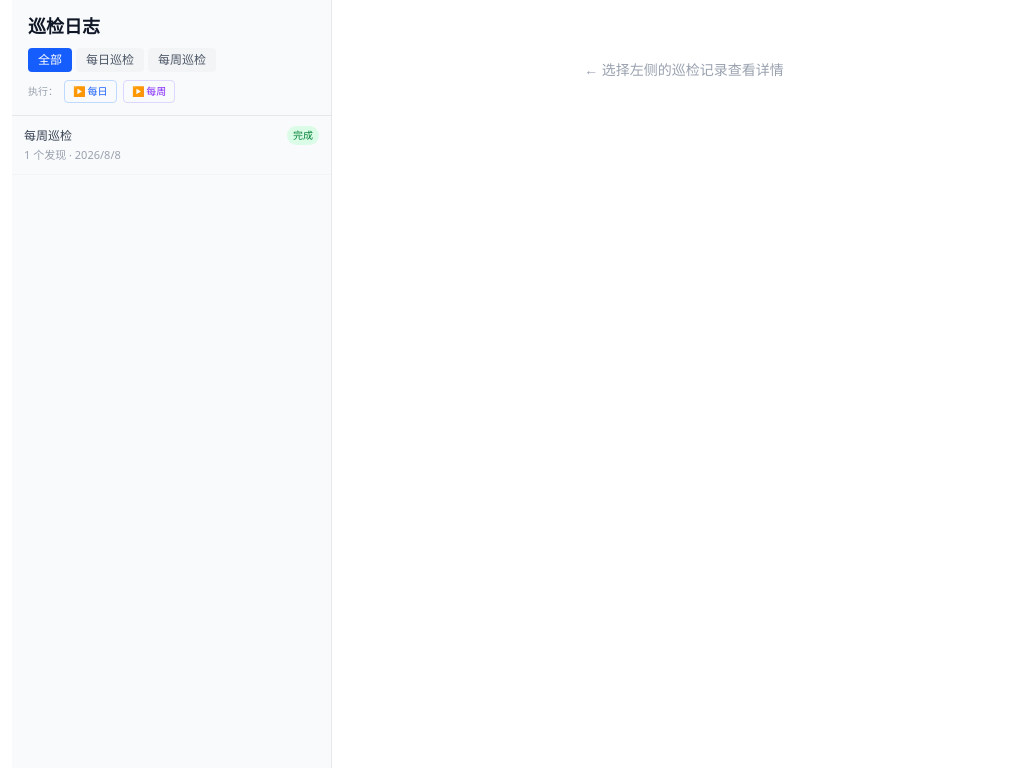
Scenario: PatrolPage › renders entity coverage findings with their entity name, not placeholders
The width and height of the screenshot is (1036, 768).
Click the text "1 个发现 · 2026/8/8": (72, 154) [24,147,121,162]
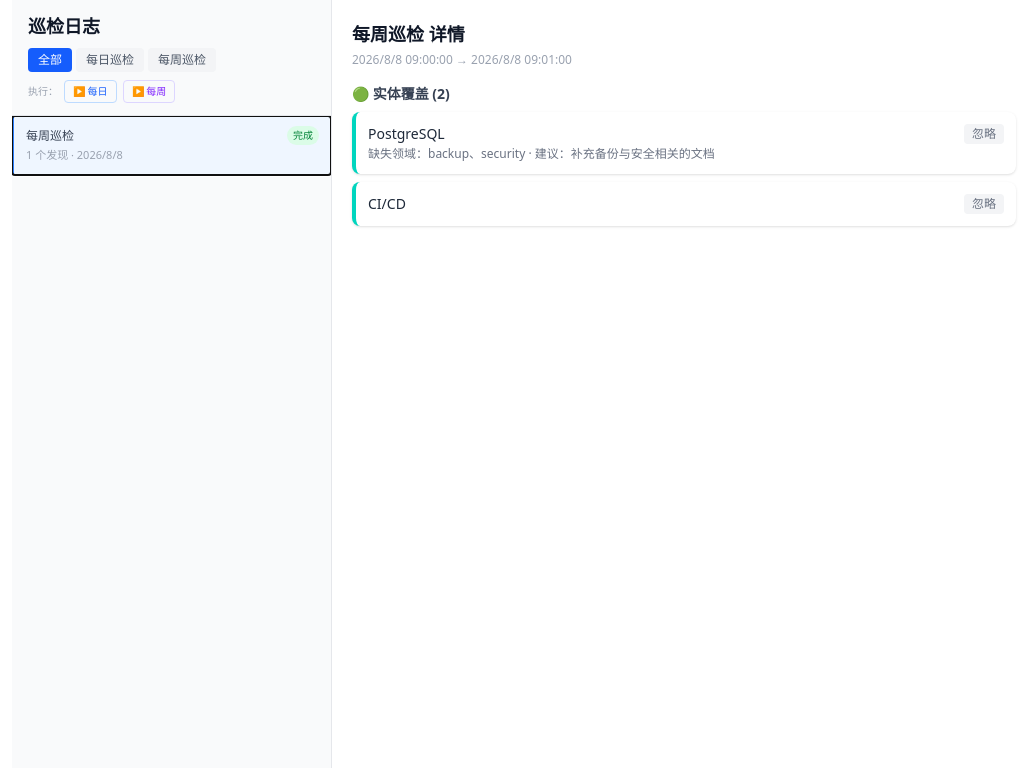
Expected: the heading "🟢 实体覆盖 (2)" is shown, [352,84,450,103]
Expected: the text "PostgreSQL" is shown, [368,124,445,143]
Expected: the text "CI/CD" is shown, [368,194,406,214]
